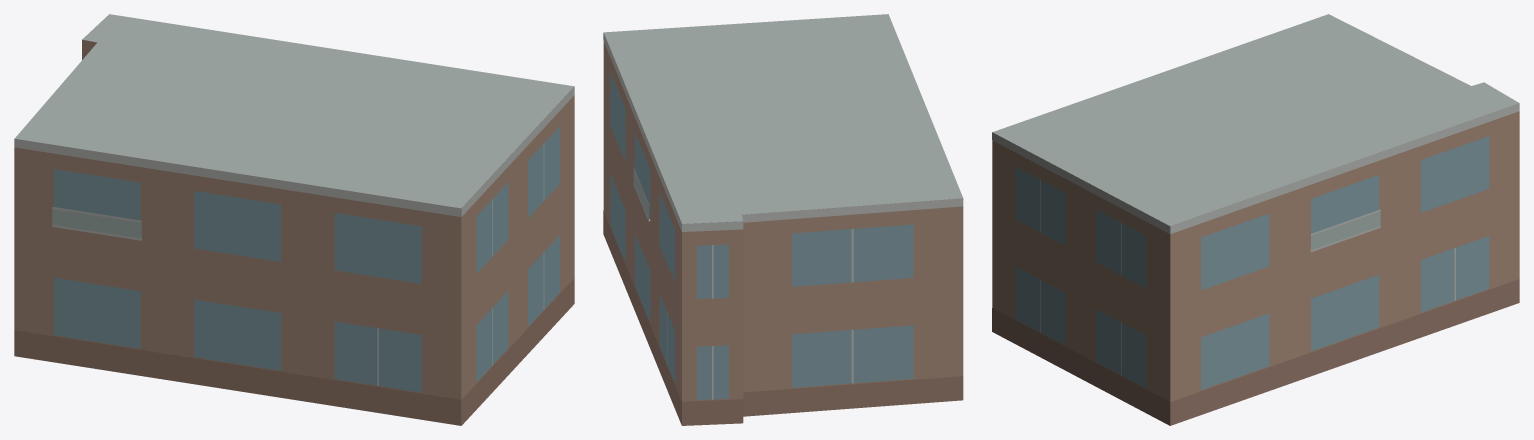
File: survey-upis-32844872.glb
The picture shows the model from 3 angles, left to right: view 1: azimuth 30°, elevation 25°; view 2: azimuth 150°, elevation 25°; view 3: azimuth 270°, elevation 25°; orthographic projection. The views are drawn at different scales.
Visible parts, largest first — view 1: survey-upis-32844872.tmp; view 2: survey-upis-32844872.tmp; view 3: survey-upis-32844872.tmp.
Part boxes in pixels (x1=…): survey-upis-32844872.tmp: x1=14, y1=14, x2=574, y2=425; survey-upis-32844872.tmp: x1=603, y1=14, x2=963, y2=425; survey-upis-32844872.tmp: x1=992, y1=14, x2=1519, y2=425.
Size of the model in its own units: 13.92 by 6.1 by 14.62.
